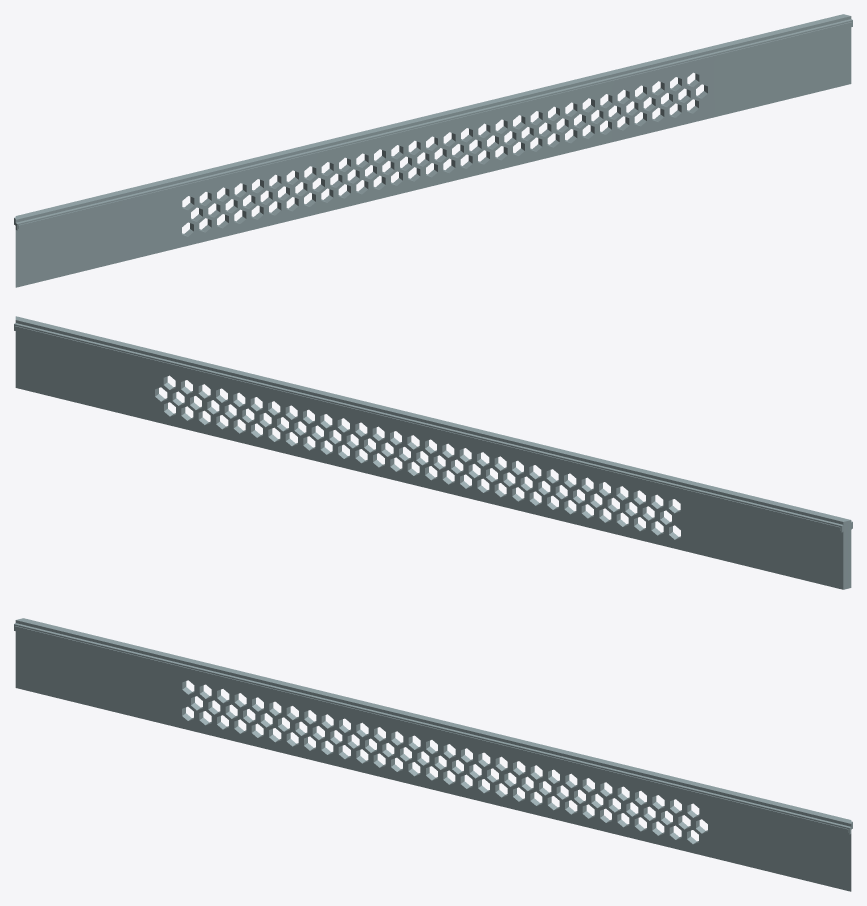
The model's file is lvl1_wall1.glb.
3 renders of one model, top to bottom at view 1: azimuth 30°, elevation 25°; view 2: azimuth 150°, elevation 25°; view 3: azimuth 330°, elevation 25°, orthographic.
Parts seen in each view (by area): view 1: lvl1_wall; view 2: lvl1_wall; view 3: lvl1_wall.
Part boxes in pixels (<box>): lvl1_wall: <box>14,14,852,287</box>; lvl1_wall: <box>14,316,852,589</box>; lvl1_wall: <box>14,618,852,891</box>.
Size of the model in its own units: 60 by 4.66 by 0.9944.
1 material, 1 textured.
